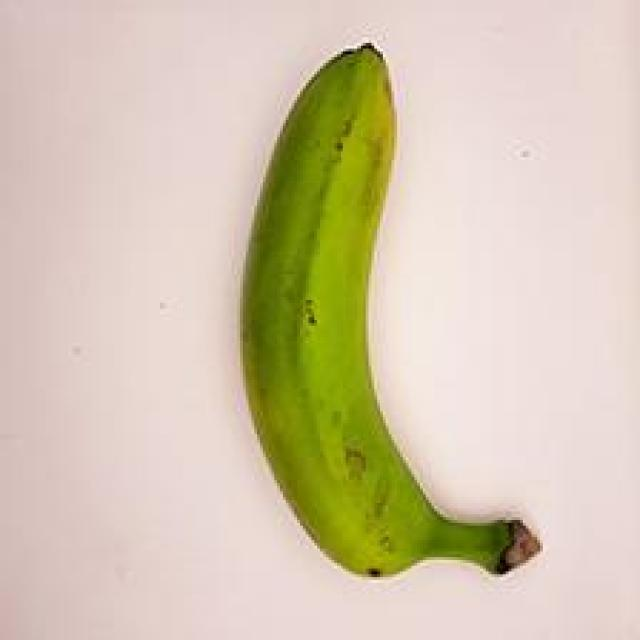unripe: (215, 30, 558, 605)
